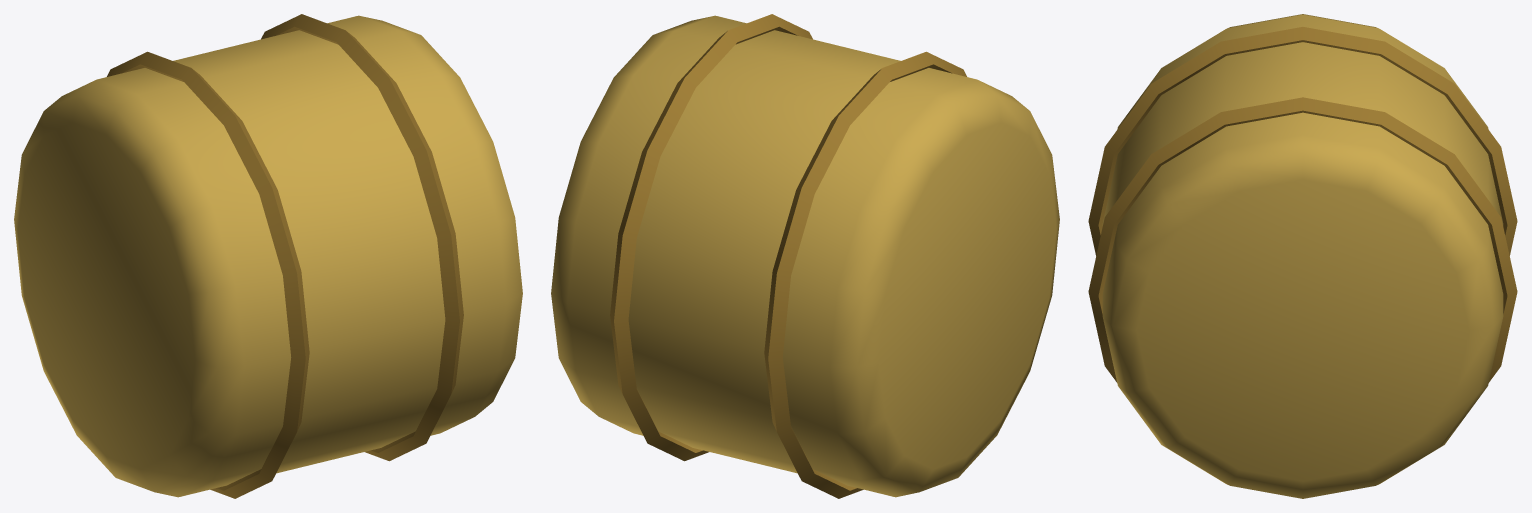
The model's file is hay_bale.fbx.
The picture shows the model from 3 angles, left to right: view 1: azimuth 30°, elevation 25°; view 2: azimuth 150°, elevation 25°; view 3: azimuth 270°, elevation 25°; orthographic projection. The views are drawn at different scales.
Parts seen in each view (by area): view 1: hay_bale; view 2: hay_bale; view 3: hay_bale.
Part boxes in pixels (left/top/right/bottom): hay_bale: left=14, top=14, right=522, bottom=498; hay_bale: left=551, top=14, right=1059, bottom=498; hay_bale: left=1088, top=14, right=1517, bottom=498.
Size of the model in its own units: 0.42 by 0.514 by 0.514.
